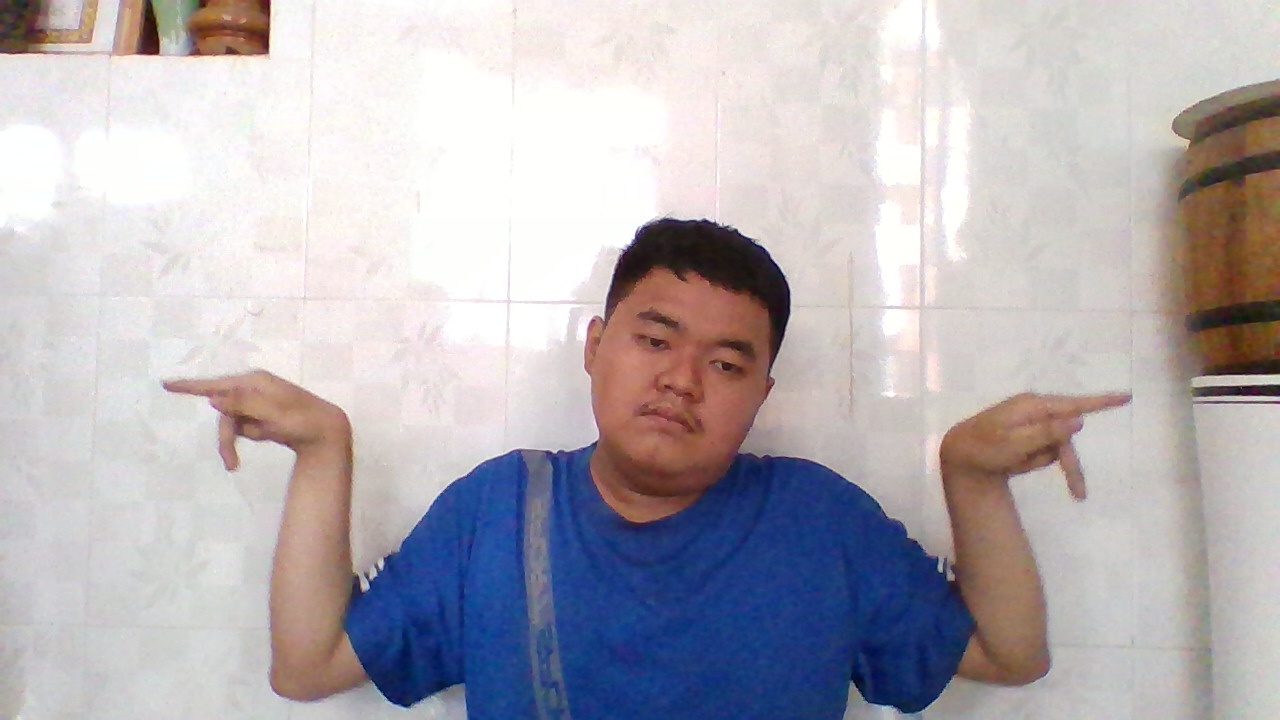P: (944, 382, 1140, 494), (153, 362, 345, 474)
